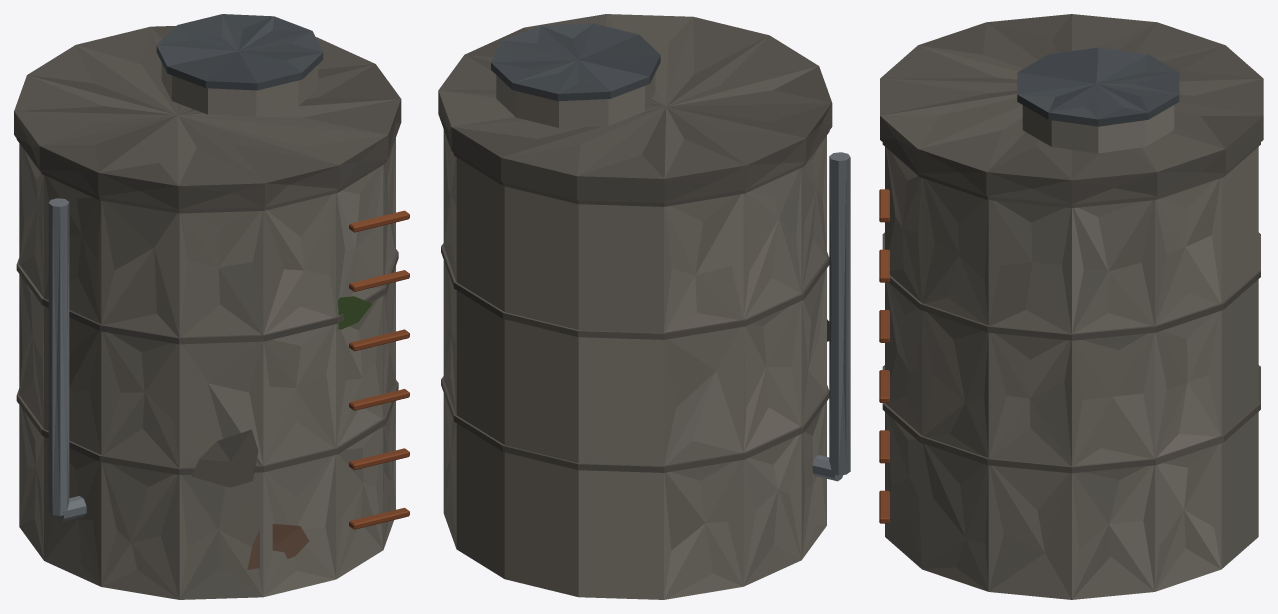
The model's file is tank_water_betonnyy_5000_l_idle.glb.
The picture shows the model from 3 angles, left to right: view 1: azimuth 30°, elevation 25°; view 2: azimuth 150°, elevation 25°; view 3: azimuth 270°, elevation 25°; orthographic projection.
Parts seen in each view (by area): view 1: tank_water_betonnyy_5000_l_idle; view 2: tank_water_betonnyy_5000_l_idle; view 3: tank_water_betonnyy_5000_l_idle.
Part boxes in pixels (<box>): tank_water_betonnyy_5000_l_idle: <box>14,14,409,599</box>; tank_water_betonnyy_5000_l_idle: <box>438,14,850,599</box>; tank_water_betonnyy_5000_l_idle: <box>879,14,1263,599</box>.
Size of the model in its own units: 1.55 by 1.9 by 1.45.
Materials: 1 (1 with a texture image).
